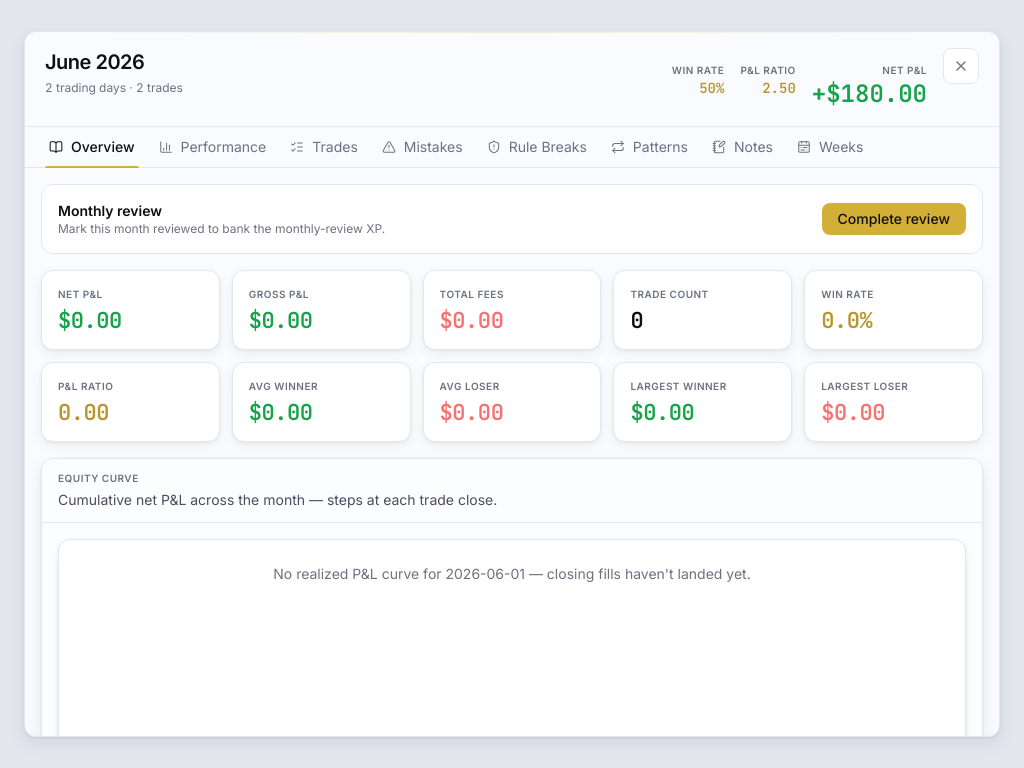
Scenario: AQ the rule breaks tab › AQ2 the MONTH tab does the same, through the same component
Expected: the heading with id "month-review-title" reads "June 2026", 45,50 -> 144,74
Click the tab "Rule Breaks".
click(537, 147)  # box 475,127 -> 599,167
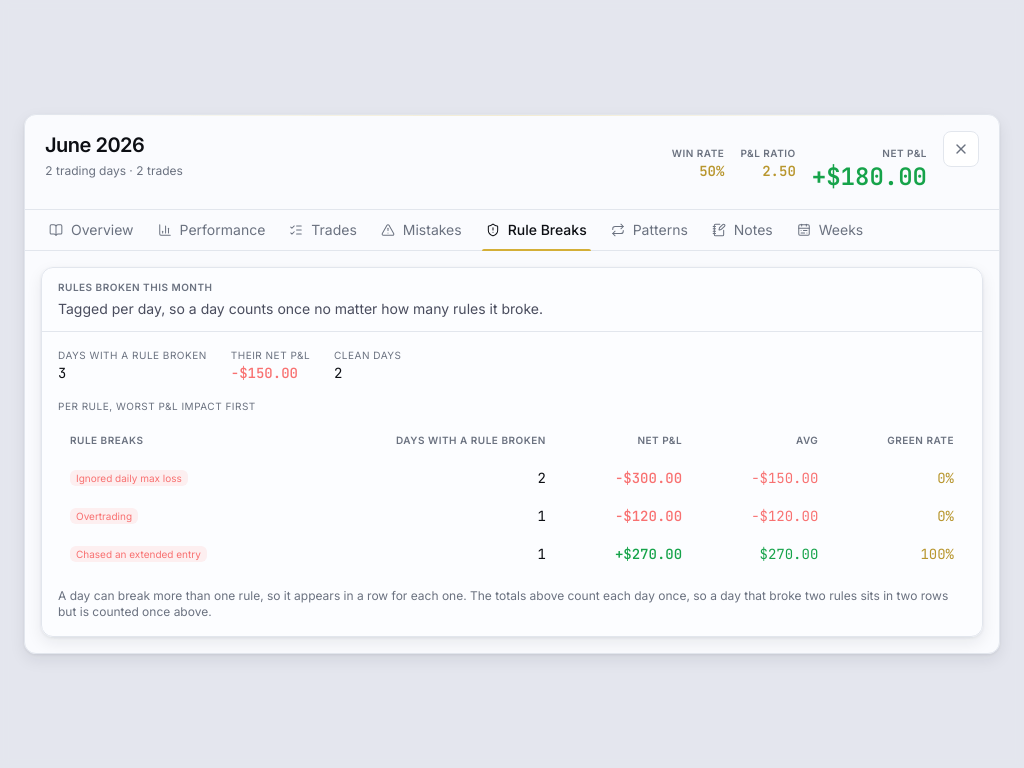
Now the text "Ignored daily max loss" is shown, box 70,470 -> 188,486
Now the text "Overtrading" is shown, box 70,508 -> 138,524
Now the text "Chased an extended entry" is shown, box 70,546 -> 207,562
